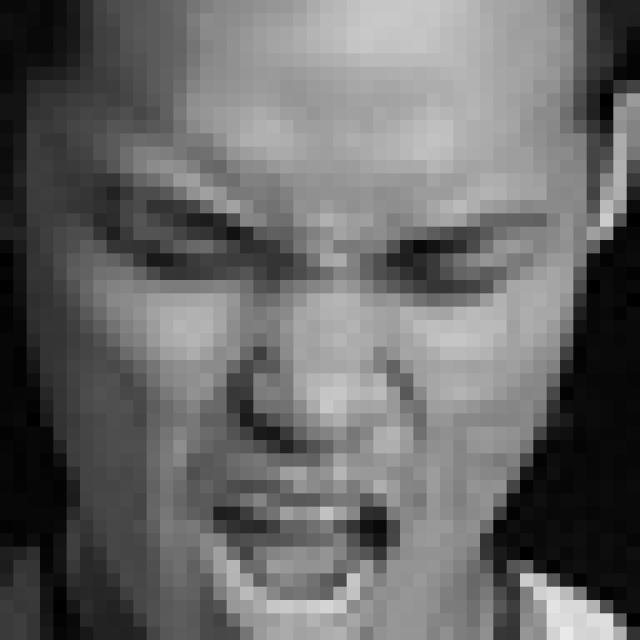angry: (92, 170, 559, 640)
